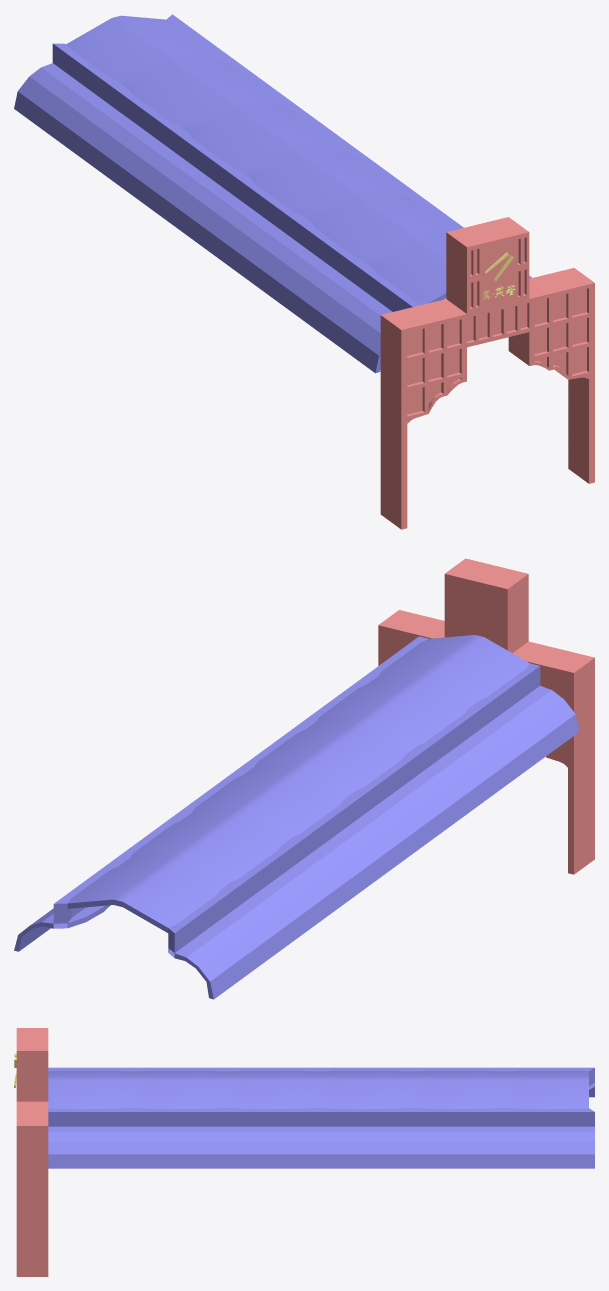
Rendered from SIN_Saibasi.FBX.
The picture shows the model from 3 angles, top to bottom: view 1: azimuth 30°, elevation 25°; view 2: azimuth 150°, elevation 25°; view 3: azimuth 270°, elevation 25°; orthographic projection. The views are drawn at different scales.
Parts seen in each view (by area): view 1: Tunnel, Sinsaibasi; view 2: Tunnel, Sinsaibasi; view 3: Tunnel, Sinsaibasi.
Boxes of the visible parts, x1,y1,x2,y2 form: Tunnel: [14, 14, 531, 373]; Sinsaibasi: [380, 217, 594, 529]; Tunnel: [14, 635, 579, 999]; Sinsaibasi: [378, 558, 594, 874]; Tunnel: [48, 1067, 594, 1168]; Sinsaibasi: [16, 1028, 48, 1276].
Bounding box in the file's own units: 42.59 × 54.5 × 142.
